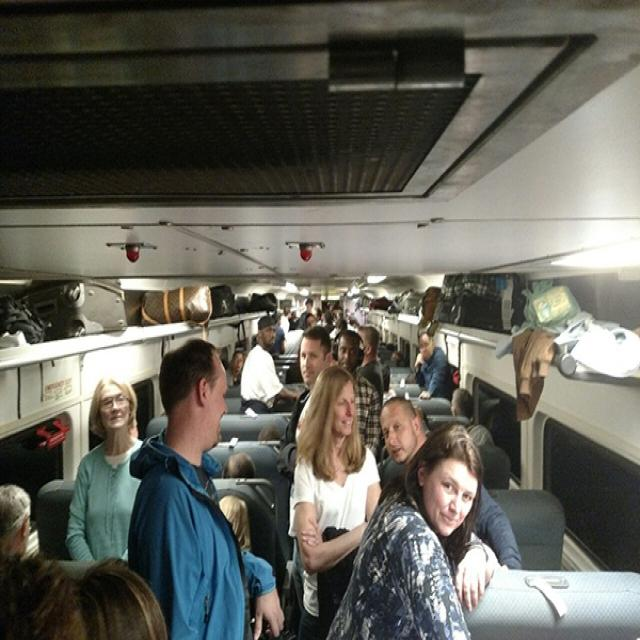body: (123, 335, 286, 640), (327, 420, 500, 638), (377, 392, 522, 572), (291, 361, 384, 640), (0, 544, 166, 638), (64, 373, 146, 563), (277, 322, 336, 484), (331, 327, 383, 462), (238, 314, 303, 412), (413, 328, 456, 404), (0, 484, 31, 566), (218, 494, 252, 554), (220, 448, 260, 484), (318, 300, 348, 339), (464, 421, 495, 455), (449, 385, 477, 421), (224, 347, 246, 388), (284, 318, 306, 356), (270, 310, 286, 356), (296, 296, 316, 331), (279, 306, 300, 331), (384, 342, 402, 366), (302, 310, 318, 330), (346, 312, 361, 332)
